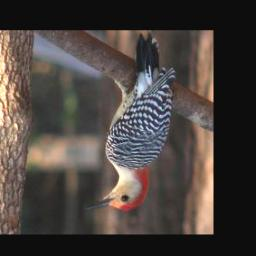Woodpecker: (83, 37, 177, 212)
